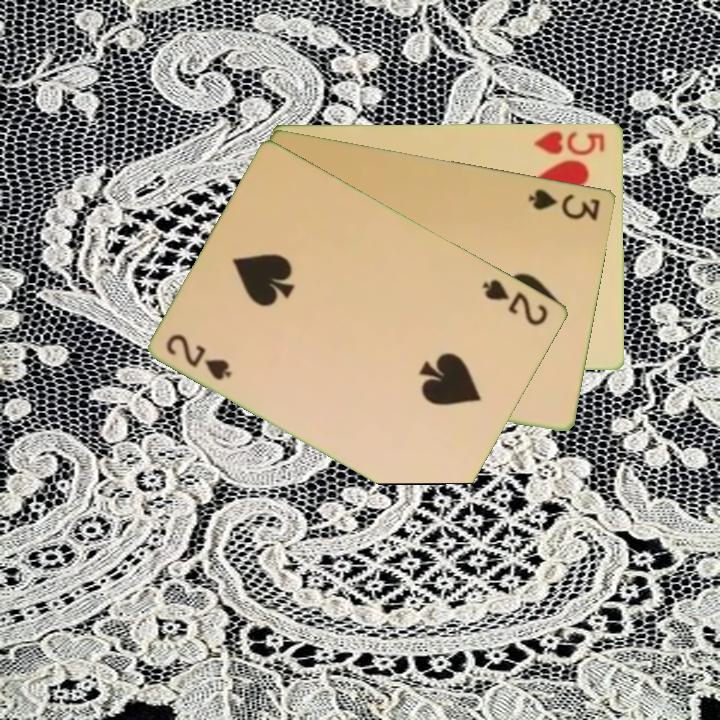2s: (479, 275, 552, 329), (163, 330, 235, 383)
3s: (526, 185, 604, 224)
5h: (531, 127, 608, 158)
